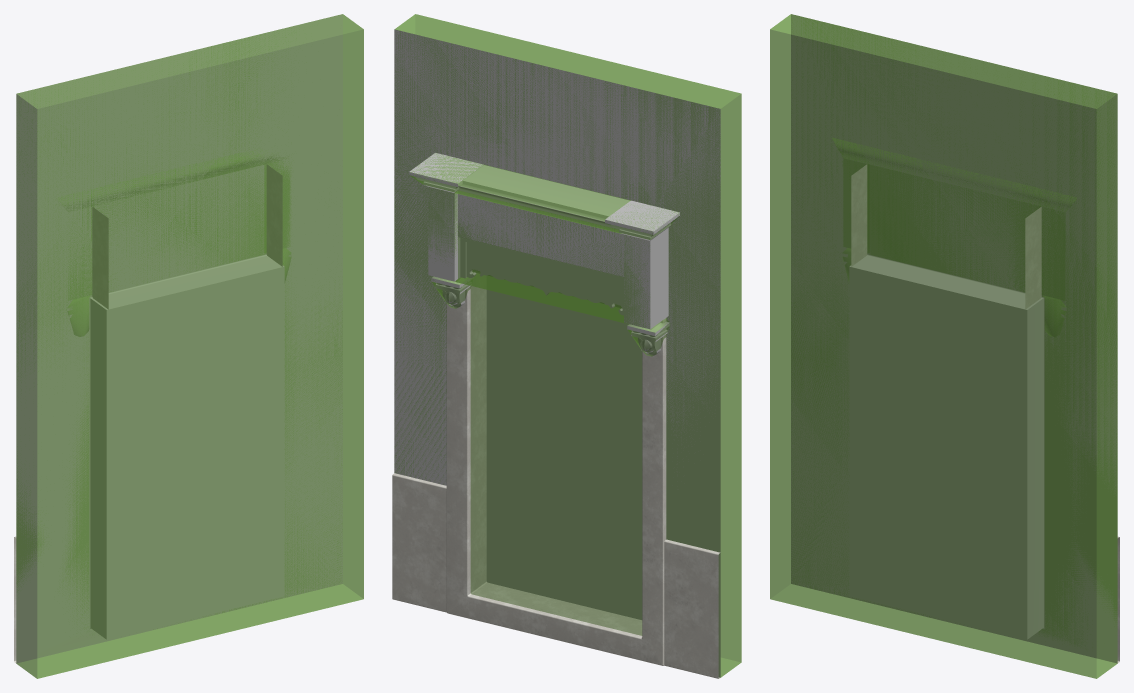
File: F9_md_Wall_5x3_WL_01.fbx
The picture shows the model from 3 angles, left to right: view 1: azimuth 30°, elevation 25°; view 2: azimuth 150°, elevation 25°; view 3: azimuth 330°, elevation 25°; orthographic projection.
Parts seen in each view (by area): view 1: F9_md_Wall_5x3_WL_01_col_3, F9_md_Wall_5x3_WL_01_LOD0, F9_md_Wall_5x3_WL_01_col_4, F9_md_Wall_5x3_WL_01_col_6, F9_md_Wall_5x3_WL_01_col_2; view 2: F9_md_Wall_5x3_WL_01_LOD0, F9_md_Wall_5x3_WL_01_col_3, F9_md_Wall_5x3_WL_01_col_5, F9_md_Wall_5x3_WL_01_col_4, F9_md_Wall_5x3_WL_01_col_6, F9_md_Wall_5x3_WL_01_col_7, F9_md_Wall_5x3_WL_01_col_2, F9_md_Wall_5x3_WL_01_col_1; view 3: F9_md_Wall_5x3_WL_01_col_3, F9_md_Wall_5x3_WL_01_LOD0, F9_md_Wall_5x3_WL_01_col_5, F9_md_Wall_5x3_WL_01_col_6, F9_md_Wall_5x3_WL_01_col_7, F9_md_Wall_5x3_WL_01_col_4, F9_md_Wall_5x3_WL_01_col_1.
Part boxes in pixels (box(x1,y1,x2,y2)): F9_md_Wall_5x3_WL_01_col_3: box(16, 14, 363, 678); F9_md_Wall_5x3_WL_01_LOD0: box(14, 14, 342, 663); F9_md_Wall_5x3_WL_01_col_4: box(65, 154, 279, 208); F9_md_Wall_5x3_WL_01_col_6: box(264, 162, 290, 252); F9_md_Wall_5x3_WL_01_col_2: box(68, 296, 89, 336); F9_md_Wall_5x3_WL_01_LOD0: box(392, 29, 720, 678); F9_md_Wall_5x3_WL_01_col_3: box(394, 14, 741, 677); F9_md_Wall_5x3_WL_01_col_5: box(456, 196, 629, 324); F9_md_Wall_5x3_WL_01_col_4: box(409, 153, 679, 239); F9_md_Wall_5x3_WL_01_col_6: box(428, 187, 457, 260); F9_md_Wall_5x3_WL_01_col_7: box(624, 235, 650, 328); F9_md_Wall_5x3_WL_01_col_2: box(627, 318, 669, 356); F9_md_Wall_5x3_WL_01_col_1: box(432, 276, 471, 308); F9_md_Wall_5x3_WL_01_col_3: box(770, 14, 1117, 678); F9_md_Wall_5x3_WL_01_LOD0: box(791, 14, 1119, 663); F9_md_Wall_5x3_WL_01_col_5: box(867, 164, 1040, 291); F9_md_Wall_5x3_WL_01_col_6: box(1042, 207, 1065, 300); F9_md_Wall_5x3_WL_01_col_7: box(843, 159, 869, 252); F9_md_Wall_5x3_WL_01_col_4: box(832, 138, 1075, 210); F9_md_Wall_5x3_WL_01_col_1: box(1043, 296, 1065, 336).
Size of what is drawn, in the model's own units: 300 by 500 by 75.1.
